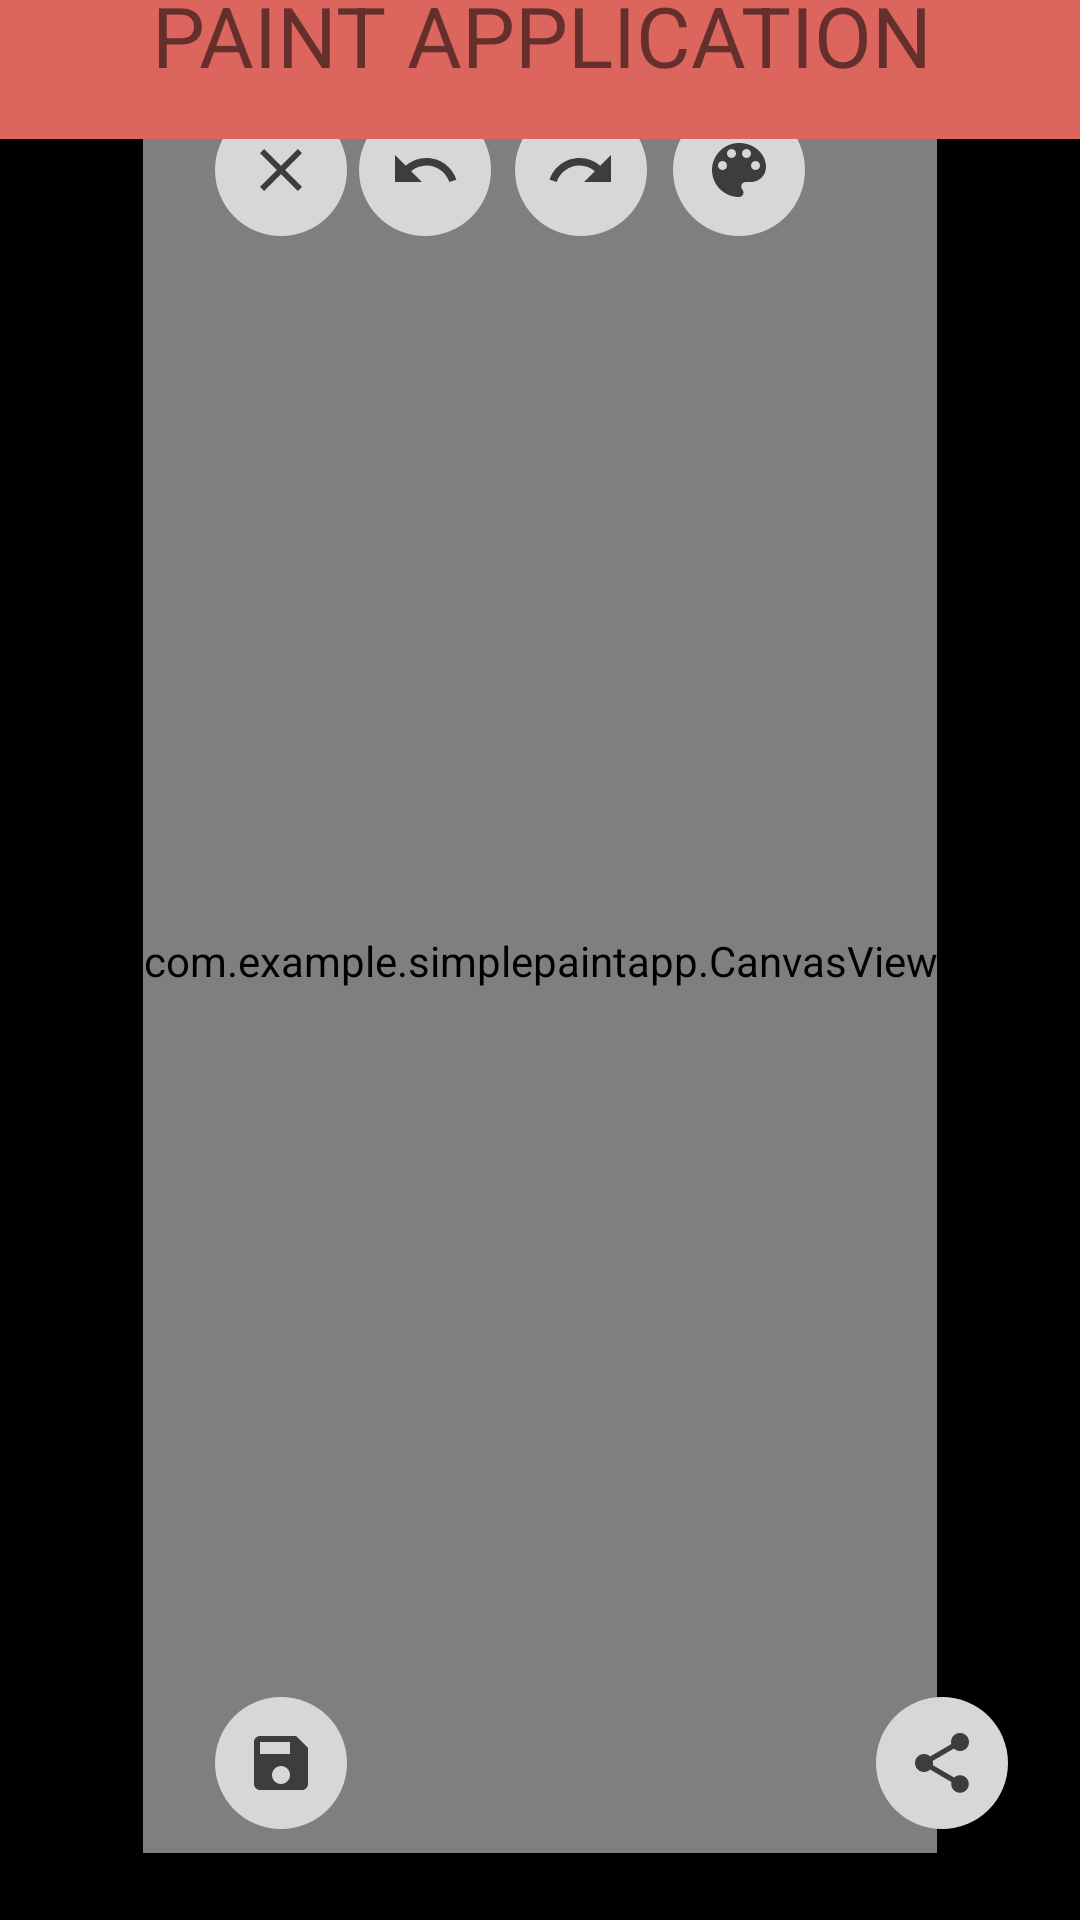

Named icons in this screenshot (1080px×1920px) and their centers, (x,y):
clear all: (281,170)
redo: (581,170)
save: (281,1763)
share: (942,1763)
undo: (425,170)
